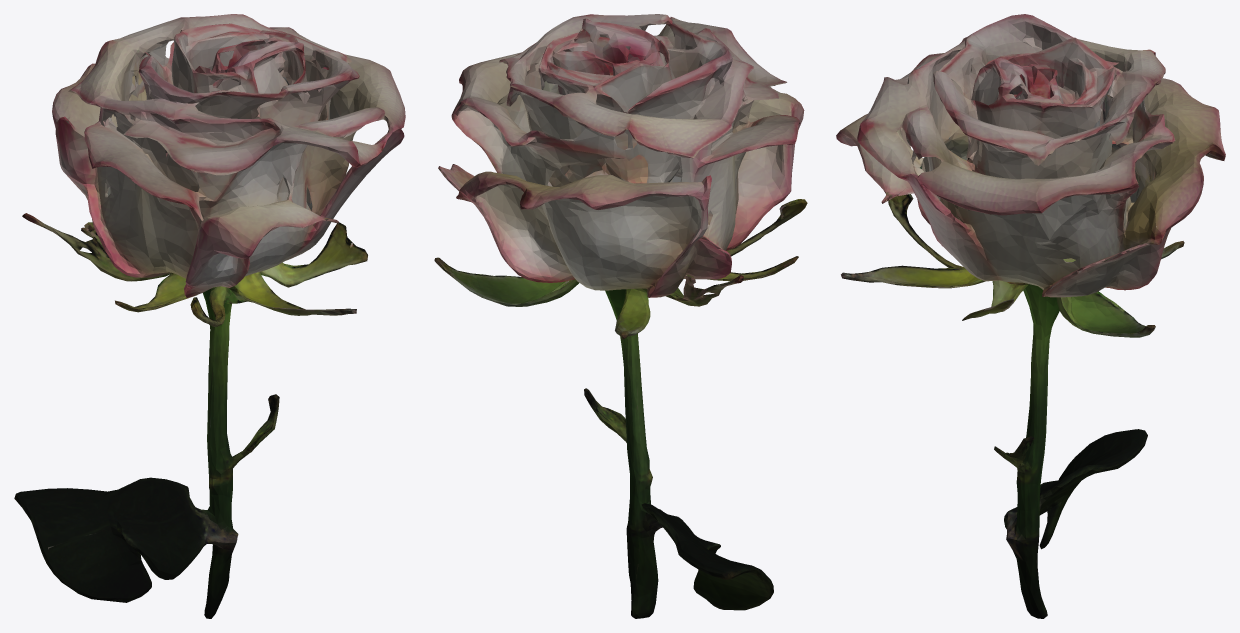
3 views of the same model, side by side, from view 1: azimuth 30°, elevation 25°; view 2: azimuth 150°, elevation 25°; view 3: azimuth 270°, elevation 25° (orthographic).
Visible parts, largest first — view 1: world; view 2: world; view 3: world.
Boxes of the visible parts, <box> form: world: <box>14,14,405,618</box>; world: <box>434,14,807,618</box>; world: <box>836,14,1225,618</box>.
Bounding box in the file's own units: 0.568 × 0.941 × 0.5805.
1 material, 1 textured.
